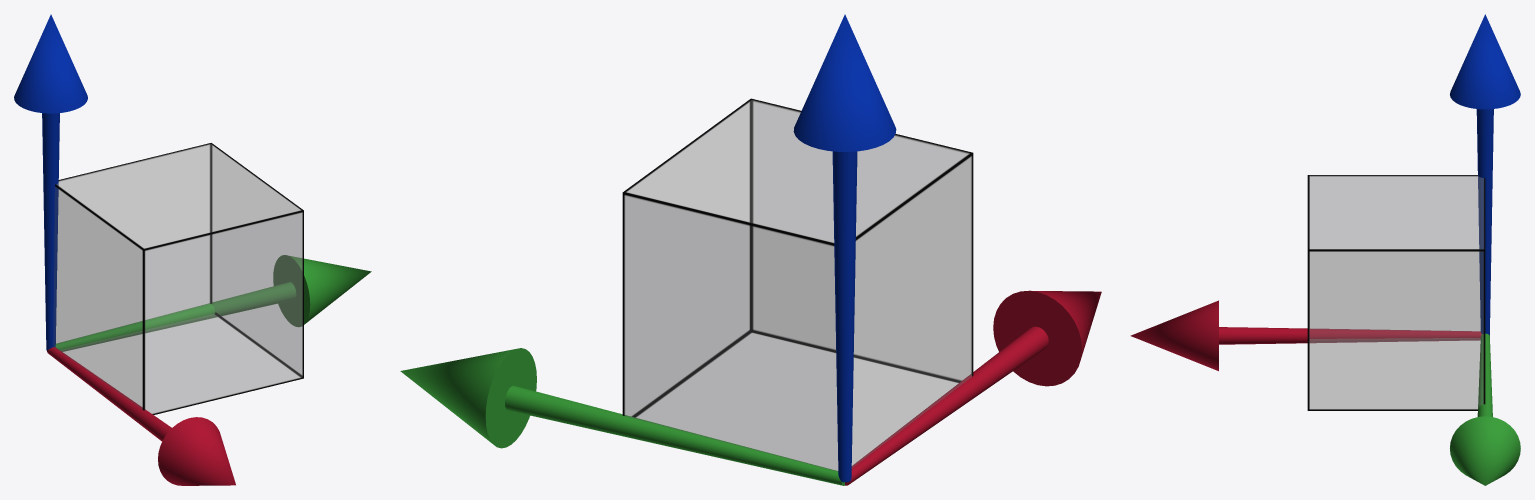
The model's file is bezwzgledny_uklad_wspolrzednych.glb.
3 renders of one model, left to right at view 1: azimuth 30°, elevation 25°; view 2: azimuth 150°, elevation 25°; view 3: azimuth 270°, elevation 25°, orthographic. The views are drawn at different scales.
Visible parts, largest first — view 1: Cube, Cone.003, Cone.005, Cone.004, cylinderx, cylinderz, cylinder y; view 2: Cube, Cone.003, Cone.004, cylinderx, Cone.005, cylinderz, cylinder y; view 3: Cube, Cone.003, Cone.004, cylinder y, Cone.005, cylinderz, cylinderx.
Part boxes in pixels (box(x1,y1,x2,y2)): Cube: box(53, 143, 303, 414); Cone.003: box(14, 14, 87, 113); Cone.005: box(158, 417, 235, 485); Cone.004: box(273, 255, 371, 326); cylinderx: box(55, 282, 295, 351); cylinderz: box(42, 113, 59, 350); cylinder y: box(47, 347, 171, 441); Cube: box(622, 98, 973, 471); Cone.003: box(793, 14, 896, 151); Cone.004: box(400, 348, 536, 448); cylinderx: box(505, 385, 844, 485); Cone.005: box(993, 290, 1101, 386); cylinderz: box(832, 151, 857, 482); cylinder y: box(845, 326, 1048, 485); Cube: box(1307, 175, 1485, 410); Cone.003: box(1450, 14, 1520, 109); Cone.004: box(1450, 416, 1520, 485); cylinder y: box(1219, 327, 1481, 344); Cone.005: box(1130, 300, 1218, 371); cylinderz: box(1476, 109, 1493, 335); cylinderx: box(1477, 333, 1492, 416).
Bounding box in the file's own units: 4.4 × 4.4 × 4.4.
4 materials, 1 textured.
